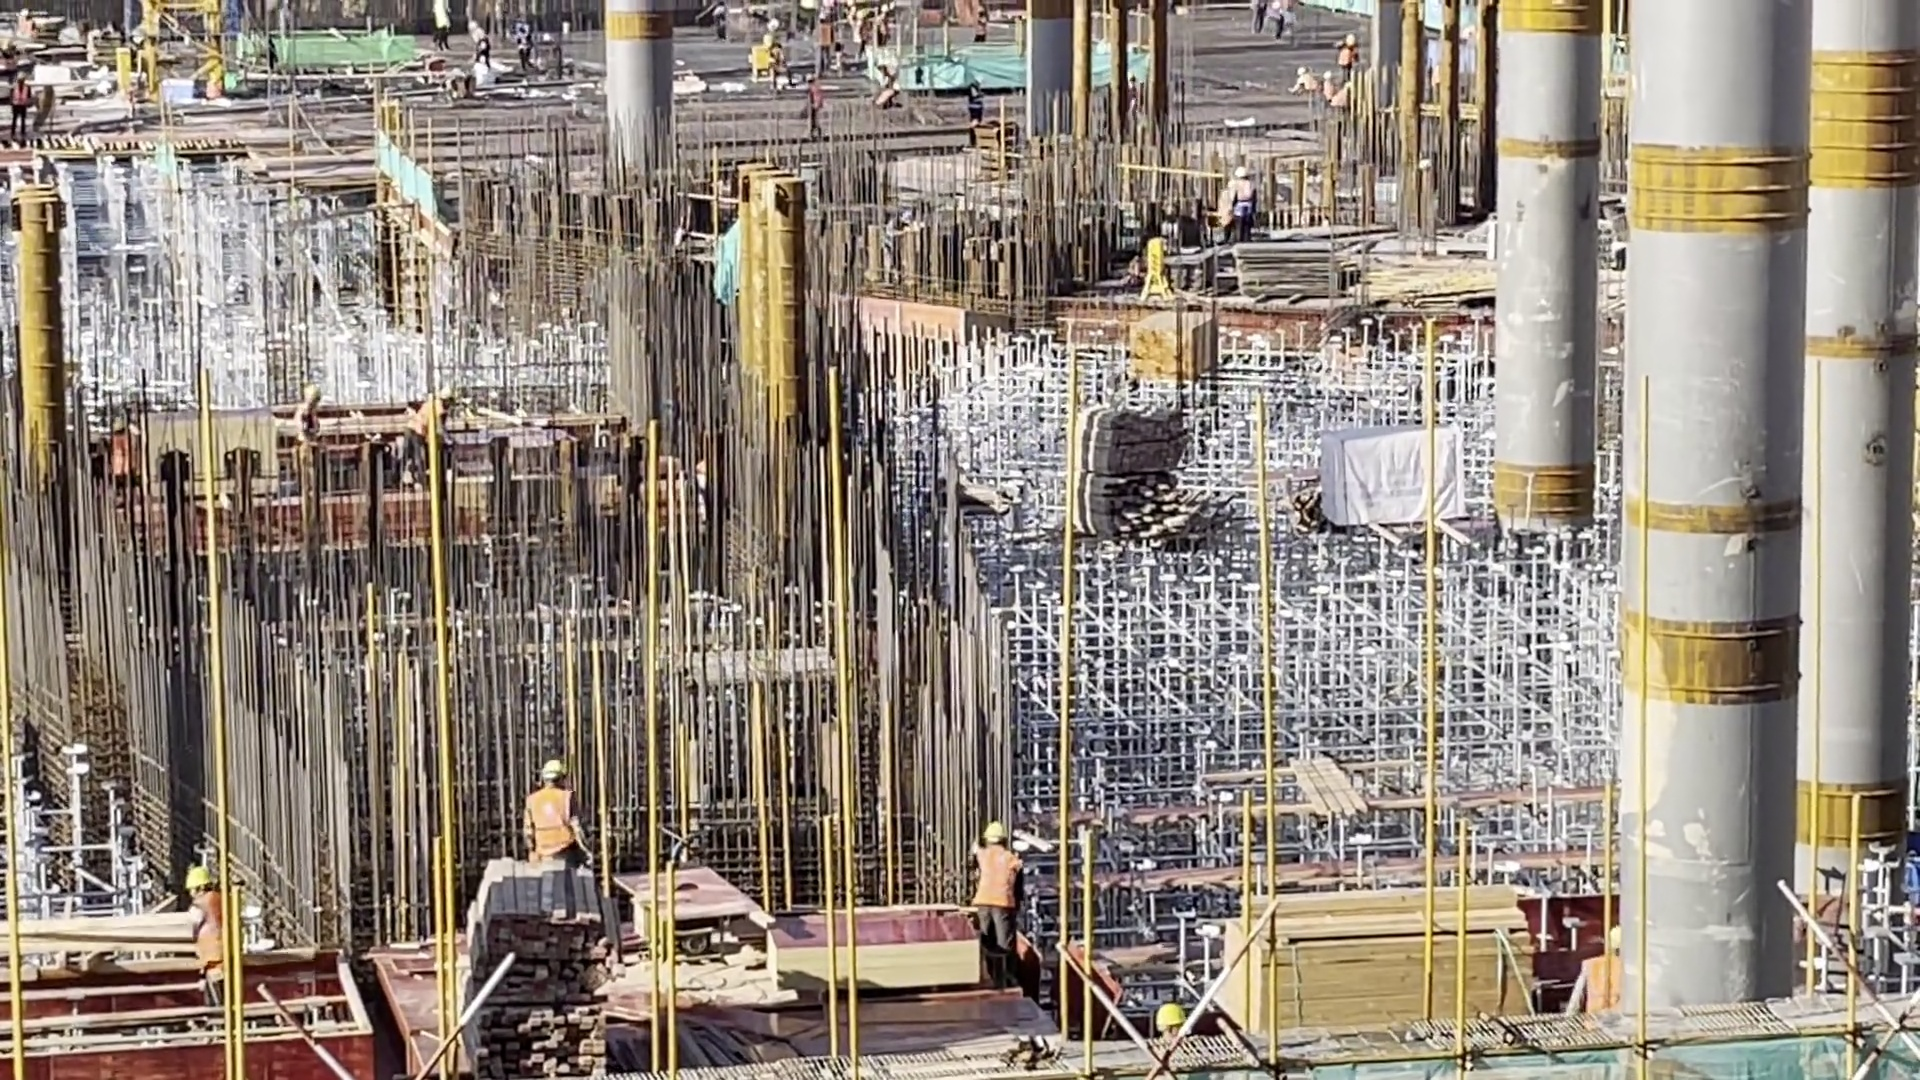board: (769, 910, 983, 1011), (149, 405, 282, 496), (1233, 237, 1337, 313)
cutter: (624, 855, 753, 947)
ebox: (1140, 234, 1172, 296), (114, 42, 138, 106), (749, 42, 778, 84)
helmet: (532, 757, 567, 782), (979, 823, 1006, 842), (186, 866, 206, 886)
person: (517, 755, 593, 876), (967, 818, 1023, 975), (184, 862, 231, 1014), (402, 386, 457, 489), (105, 413, 140, 503), (1226, 166, 1256, 248), (7, 73, 31, 149), (296, 385, 321, 449), (1335, 32, 1361, 82), (466, 18, 492, 67), (805, 71, 822, 136), (1288, 65, 1319, 95), (516, 23, 534, 71), (711, 1, 729, 43), (968, 77, 984, 123), (1249, 1, 1267, 32), (1321, 68, 1335, 106), (974, 6, 987, 43)
vest: (528, 788, 572, 865), (188, 893, 226, 978), (973, 846, 1015, 916)
wood: (1224, 882, 1538, 1039), (454, 860, 618, 1080), (1070, 398, 1210, 561), (1127, 310, 1218, 380)
